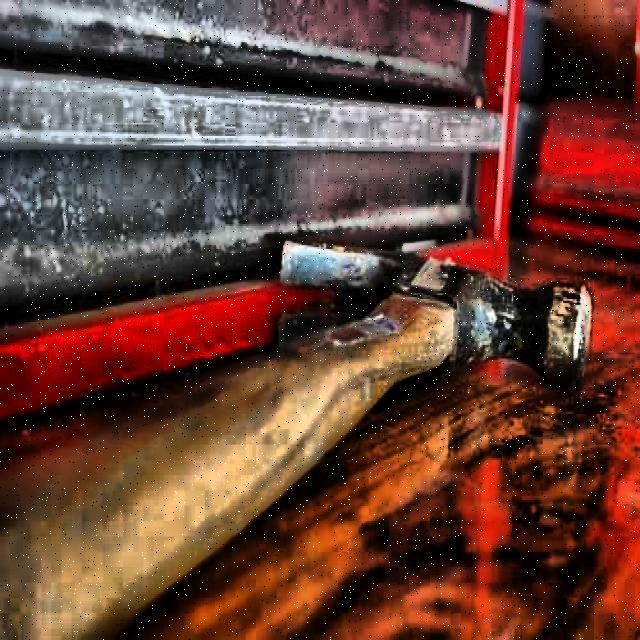hammer: (0, 240, 596, 640)
